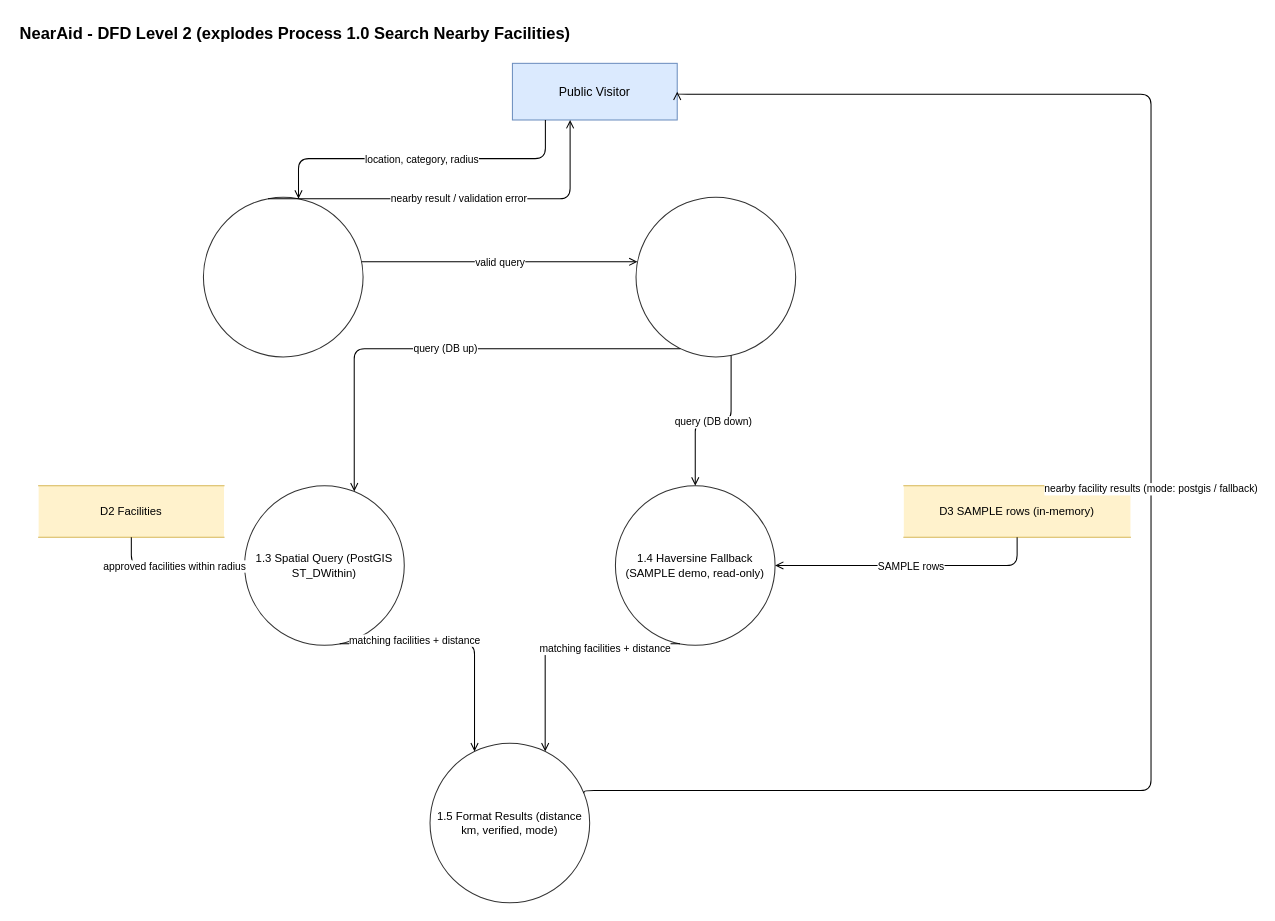
The diagram is 1275 pixels wide and 921 high, and some of its shapes have lost their labels. The shapes that lost their labels are listed below. From the top down, each one's box as (x1, y1, x2, y2) in pixels, then its label:
(202, 196, 363, 357): 1.1 Validate Search Parameters
(635, 196, 796, 357): 1.2 Check Database Availability
